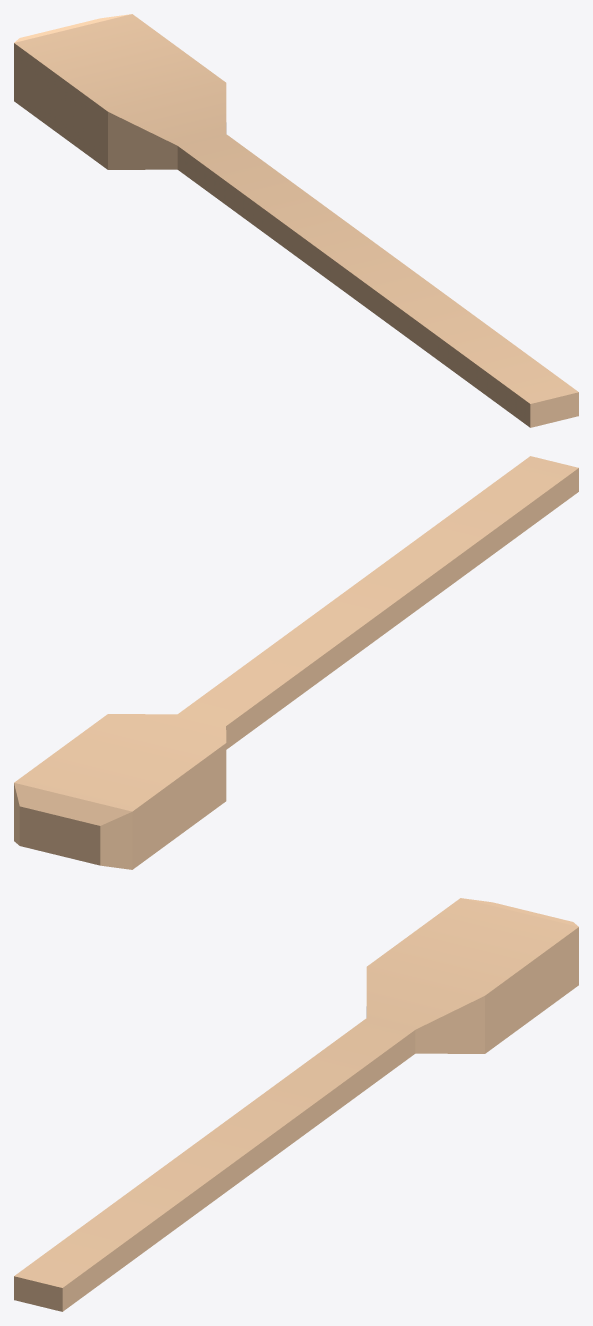
Rendered from canoe_paddle.glb.
3 views of the same model, one above another, from view 1: azimuth 30°, elevation 25°; view 2: azimuth 150°, elevation 25°; view 3: azimuth 330°, elevation 25° (orthographic).
Visible parts, largest first — view 1: canoe_paddle; view 2: canoe_paddle; view 3: canoe_paddle.
Boxes of the visible parts, x1,y1,x2,y2 form: canoe_paddle: (14, 14, 578, 427); canoe_paddle: (14, 456, 578, 869); canoe_paddle: (14, 898, 578, 1311).
Size of the model in its own units: 0.7672 by 0.361 by 5.55.
